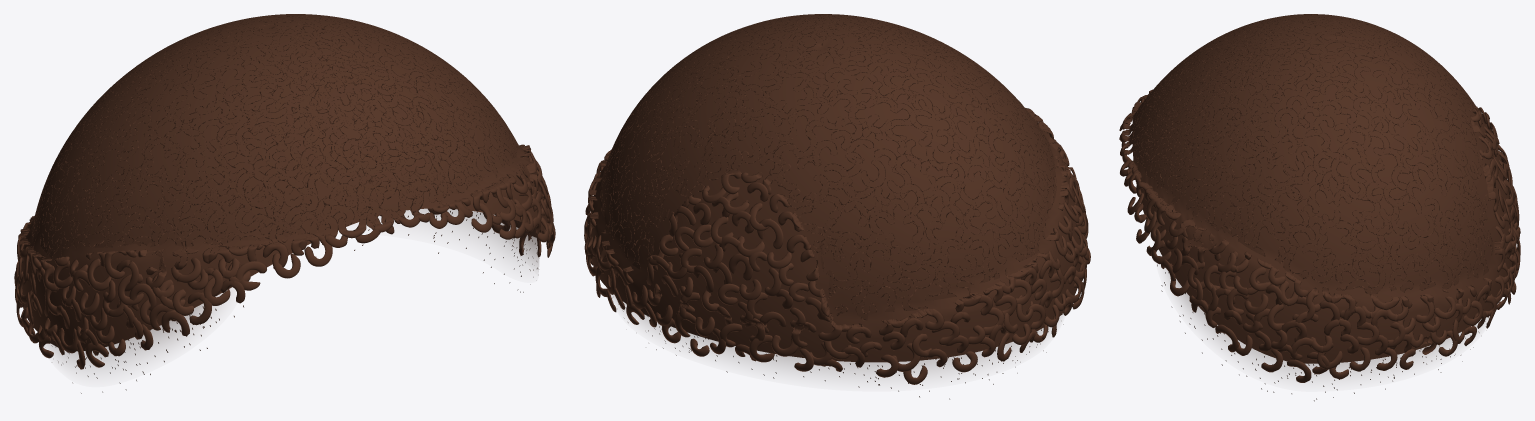
The model's file is Masculine-afro-cap-hair.glb.
3 views of the same model, side by side, from view 1: azimuth 30°, elevation 25°; view 2: azimuth 150°, elevation 25°; view 3: azimuth 270°, elevation 25° (orthographic). The views are drawn at different scales.
Visible parts, largest first — view 1: 226 hair / Hair / sculpted curl clusters227, 226 hair / Hair / curly taper density227; view 2: 226 hair / Hair / sculpted curl clusters227, 226 hair / Hair / curly taper density227; view 3: 226 hair / Hair / sculpted curl clusters227, 226 hair / Hair / curly taper density227.
Part boxes in pixels (<box>): 226 hair / Hair / sculpted curl clusters227: <box>14,14,555,369</box>; 226 hair / Hair / curly taper density227: <box>47,209,539,364</box>; 226 hair / Hair / sculpted curl clusters227: <box>584,14,1090,384</box>; 226 hair / Hair / curly taper density227: <box>613,295,1049,373</box>; 226 hair / Hair / sculpted curl clusters227: <box>1119,14,1520,382</box>; 226 hair / Hair / curly taper density227: <box>1169,275,1477,373</box>.
Bounding box in the file's own units: 1.03 × 0.6318 × 0.8277.
